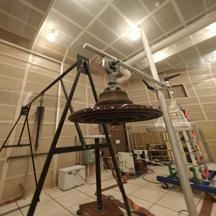insulator: (66, 83, 166, 133)
